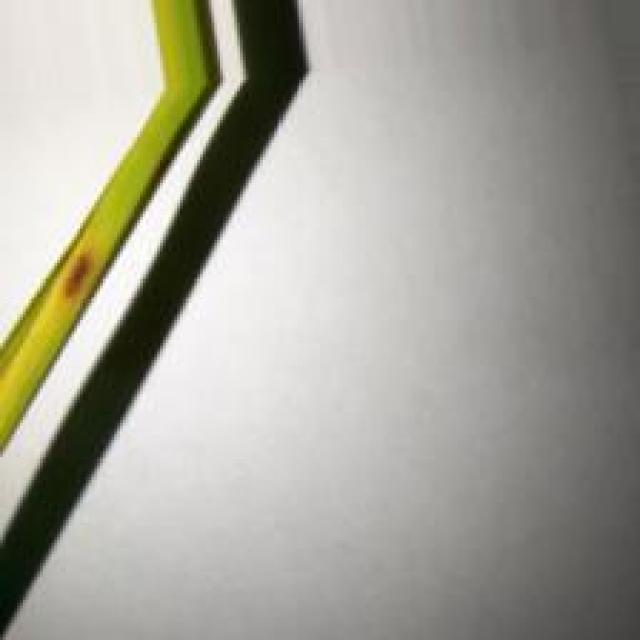Brown_Spot: (51, 241, 102, 309)
